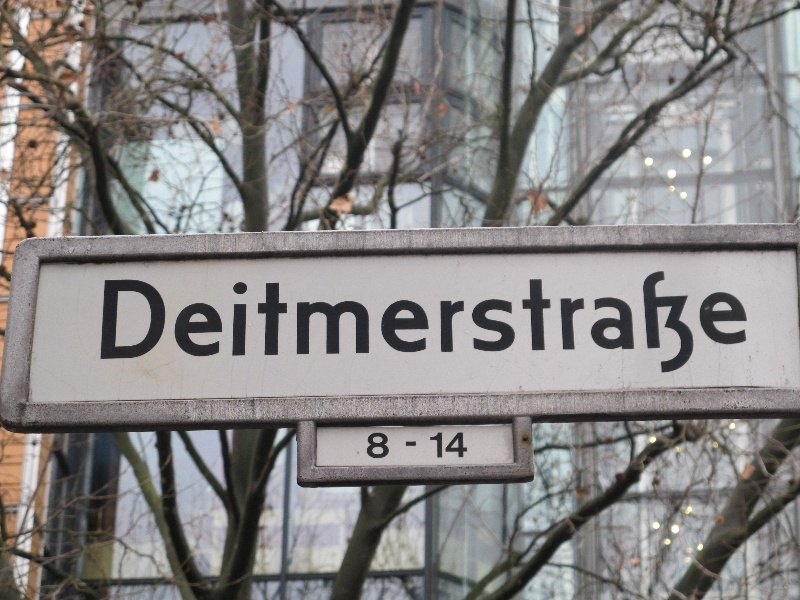text: (113, 267, 128, 380), (129, 267, 144, 380), (145, 267, 160, 380), (161, 267, 176, 380), (177, 267, 192, 380), (193, 267, 208, 380), (209, 267, 224, 380), (225, 267, 240, 380), (241, 267, 256, 380), (257, 267, 272, 380), (273, 267, 288, 380), (289, 267, 304, 380), (305, 267, 320, 380), (321, 267, 336, 380), (337, 267, 352, 380), (353, 267, 368, 380), (369, 267, 384, 380), (385, 267, 400, 380), (401, 267, 416, 380), (417, 267, 432, 380), (433, 267, 448, 380), (449, 267, 464, 380), (465, 267, 480, 380), (481, 267, 496, 380), (497, 267, 512, 380), (513, 267, 528, 380), (529, 267, 544, 380), (545, 267, 560, 380), (561, 267, 576, 380), (577, 267, 592, 380), (593, 267, 608, 380), (609, 267, 624, 380), (625, 267, 640, 380), (641, 267, 656, 380), (657, 267, 672, 380), (673, 267, 688, 380), (689, 267, 704, 380), (705, 267, 720, 380), (721, 267, 736, 380), (737, 267, 752, 380), (103, 267, 112, 380), (433, 430, 448, 459), (449, 430, 464, 459), (369, 431, 384, 459), (753, 267, 756, 380), (385, 431, 390, 459), (465, 430, 469, 459), (405, 440, 416, 449), (429, 430, 432, 459), (367, 431, 368, 459), (417, 440, 418, 449)
